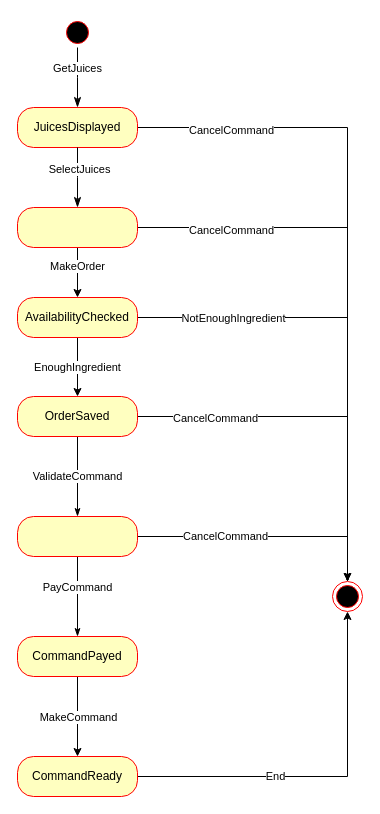
This 380x814 diagram has some shape labels left out. Each missing label, with the centre of its shape:
CommandValidated: the point at 77,536
JuicesSelected: the point at 77,227
